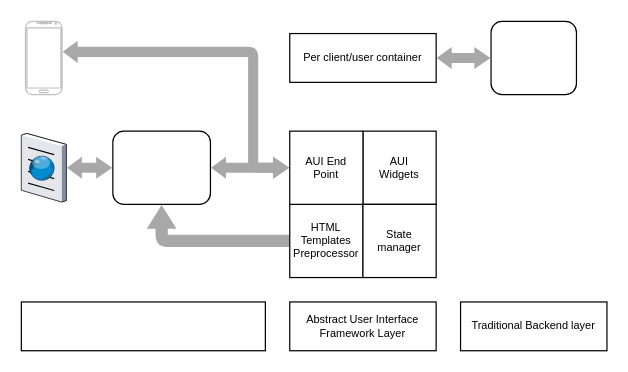
Image size: 628x372. Some labels were removed from this diagram. The centre of each missing label's shape, as x and y in pixels:
Backend aplication: pixel 533 57
Front End layer: pixel 142 326
Java script DOM elements: pixel 161 167
